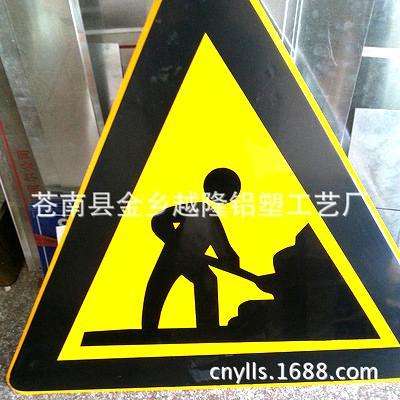sign: (19, 4, 393, 395)
